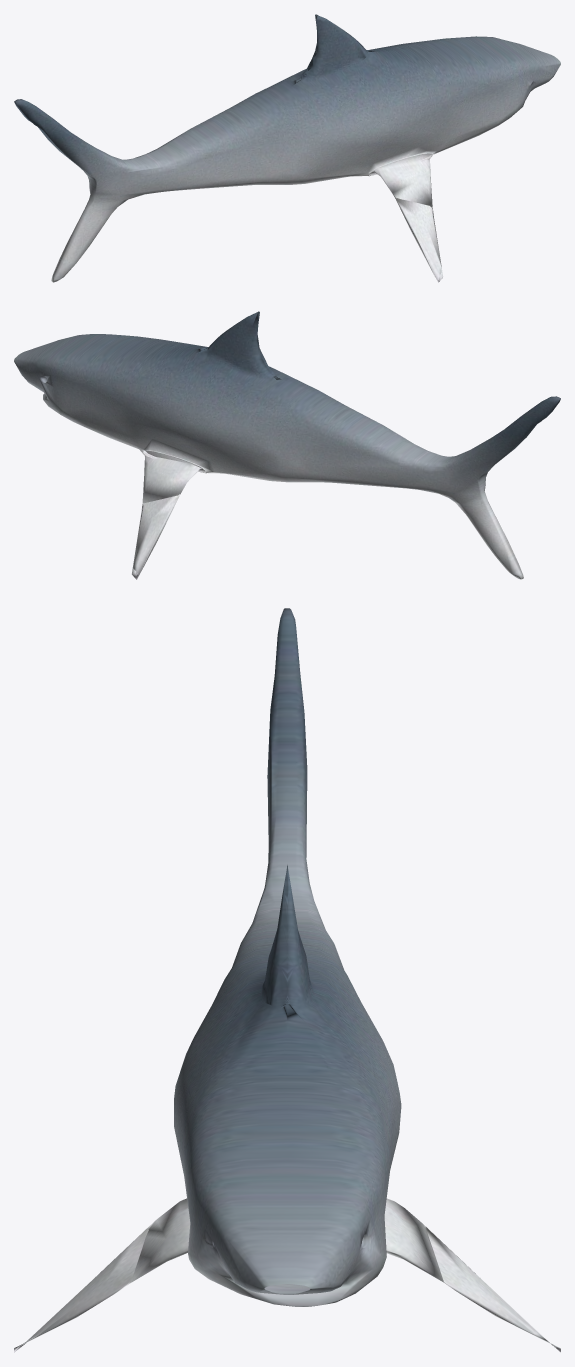
The model's file is Tiburon.fbx.
The picture shows the model from 3 angles, top to bottom: view 1: azimuth 30°, elevation 25°; view 2: azimuth 150°, elevation 25°; view 3: azimuth 270°, elevation 25°; orthographic projection. The views are drawn at different scales.
Visible parts, largest first — view 1: Tiburon; view 2: Tiburon; view 3: Tiburon.
Part boxes in pixels (x1,y1,x2,y2): Tiburon: (14, 14, 560, 282); Tiburon: (14, 311, 560, 579); Tiburon: (14, 608, 560, 1352).
Bounding box in the file's own units: 3 × 1.21 × 1.37.
1 material, 1 textured.
